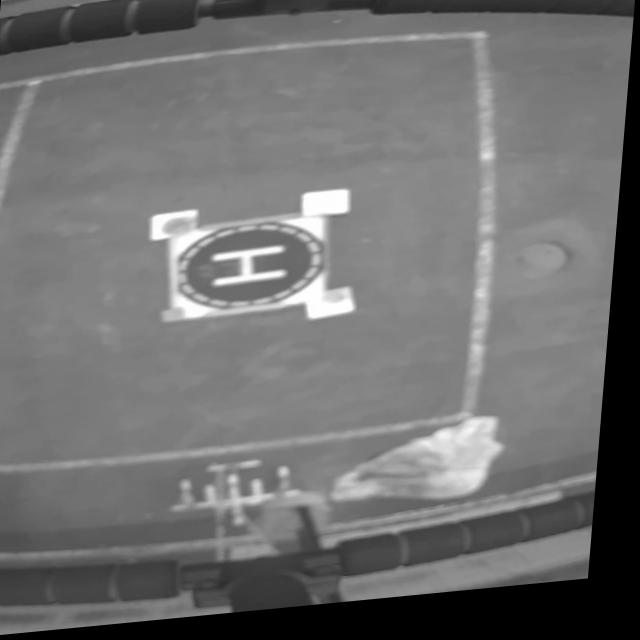Helipad: (216, 252, 291, 294)
